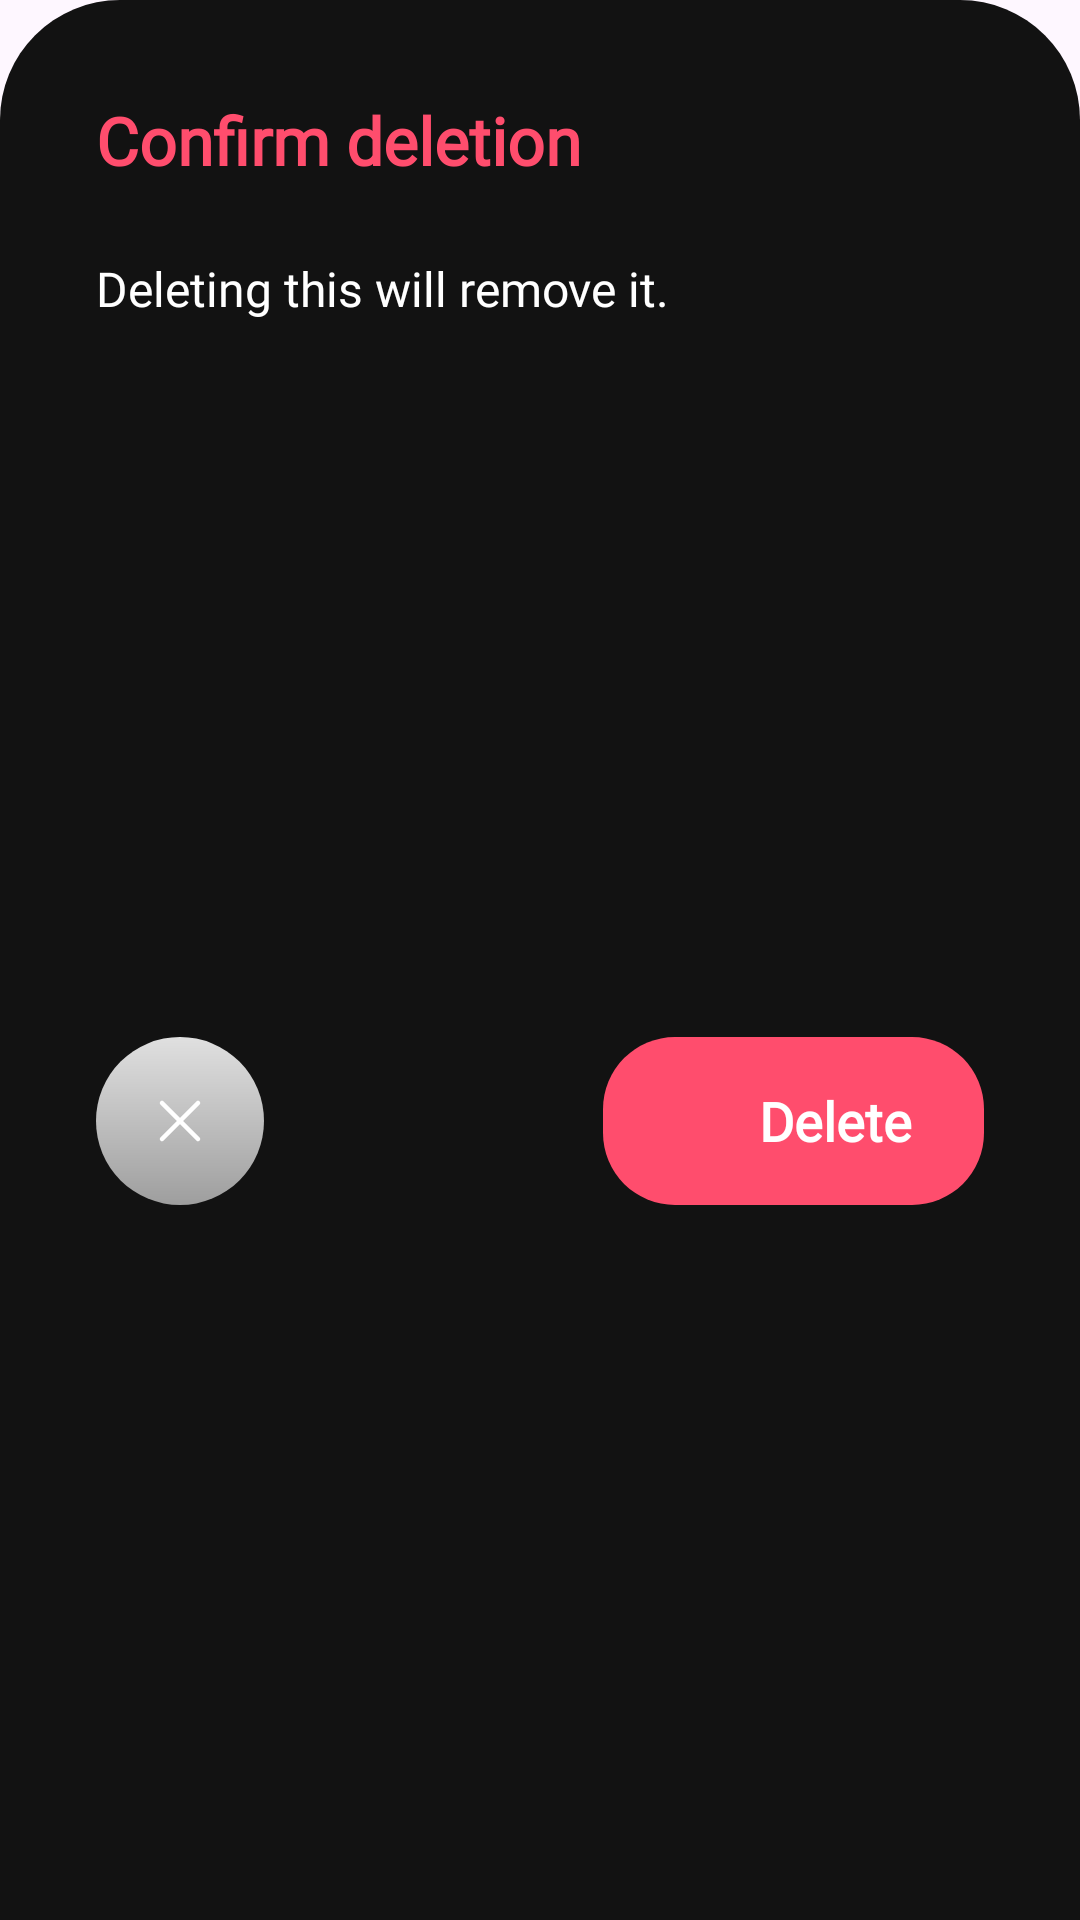

Where to tap for icons on this 1080x1920 app screen, as (x,y):
Cancel: (180,1121)
